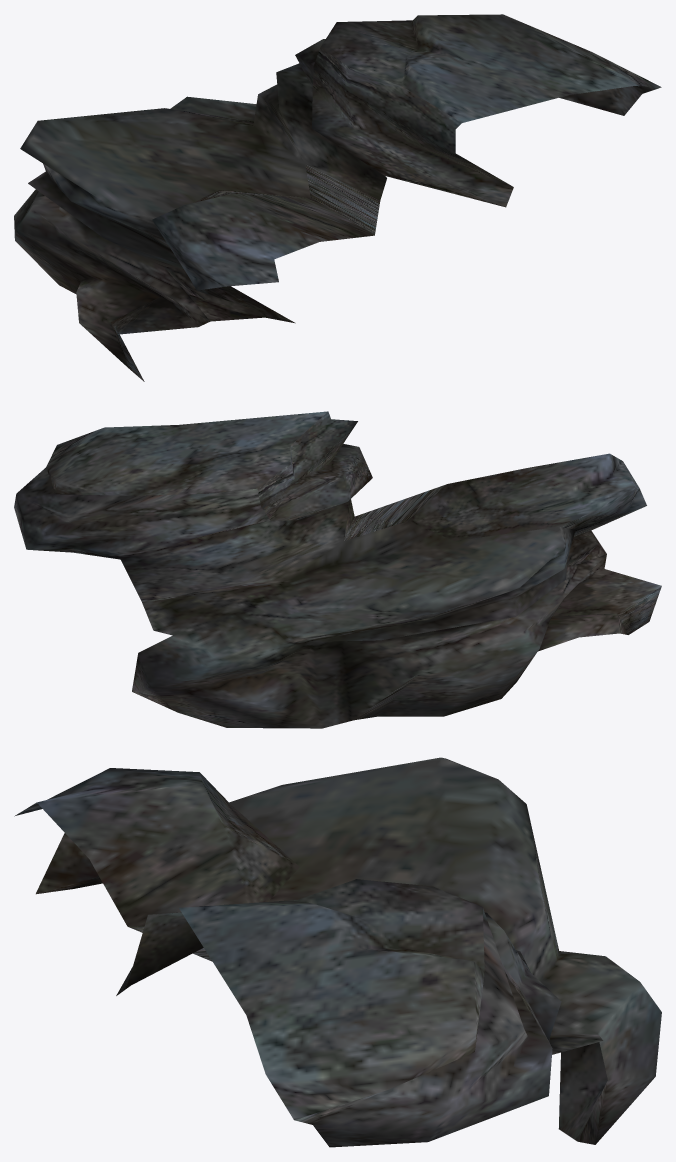
Rendered from S_Rock_Yellow034_H17.FBX.
3 views of the same model, one above another, from view 1: azimuth 30°, elevation 25°; view 2: azimuth 150°, elevation 25°; view 3: azimuth 270°, elevation 25° (orthographic). The views are drawn at different scales.
Visible parts, largest first — view 1: S_Rock_Yellow034_H17; view 2: S_Rock_Yellow034_H17; view 3: S_Rock_Yellow034_H17.
Boxes of the visible parts, x1,y1,x2,y2 form: S_Rock_Yellow034_H17: [14, 14, 661, 381]; S_Rock_Yellow034_H17: [14, 411, 661, 728]; S_Rock_Yellow034_H17: [14, 757, 661, 1147].
Size of the model in its own units: 1394 by 1117 by 494.
Materials: 1 (1 with a texture image).
